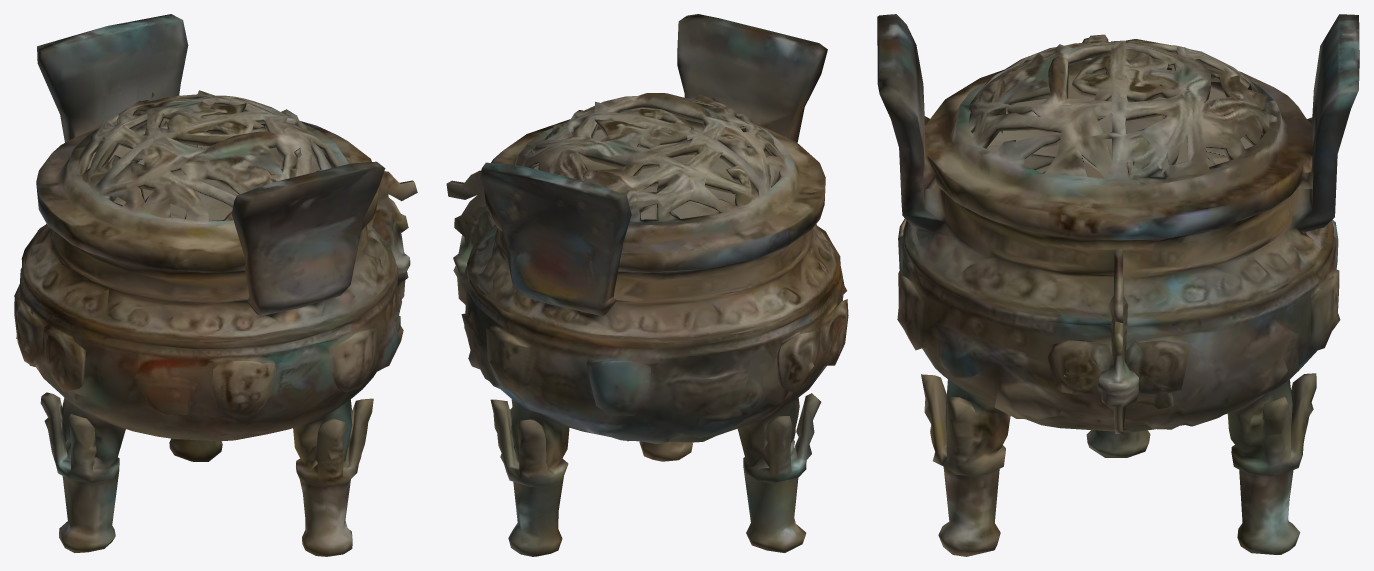
The model's file is xianglu.glb.
The picture shows the model from 3 angles, left to right: view 1: azimuth 30°, elevation 25°; view 2: azimuth 150°, elevation 25°; view 3: azimuth 270°, elevation 25°; orthographic projection. The views are drawn at different scales.
Parts seen in each view (by area): view 1: tripo_node_614e23df-3021-4053-8704-7ff3f89523f3; view 2: tripo_node_614e23df-3021-4053-8704-7ff3f89523f3; view 3: tripo_node_614e23df-3021-4053-8704-7ff3f89523f3.
Boxes of the visible parts, box(x1,y1,x2,y2) form: tripo_node_614e23df-3021-4053-8704-7ff3f89523f3: box(14, 14, 417, 556); tripo_node_614e23df-3021-4053-8704-7ff3f89523f3: box(446, 14, 848, 556); tripo_node_614e23df-3021-4053-8704-7ff3f89523f3: box(877, 14, 1359, 556).
Bounding box in the file's own units: 0.9613 × 1 × 0.9274.
1 material, 1 textured.
